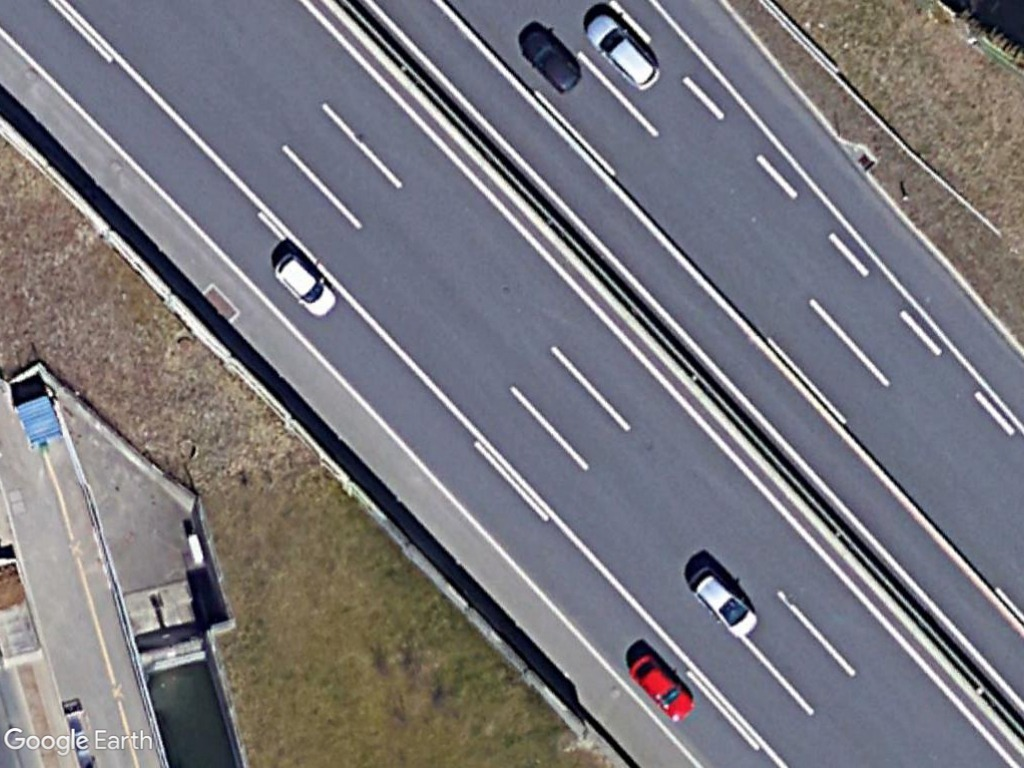car: (584, 13, 662, 89), (684, 568, 760, 640), (626, 653, 696, 721), (274, 253, 339, 320), (522, 31, 579, 92)
